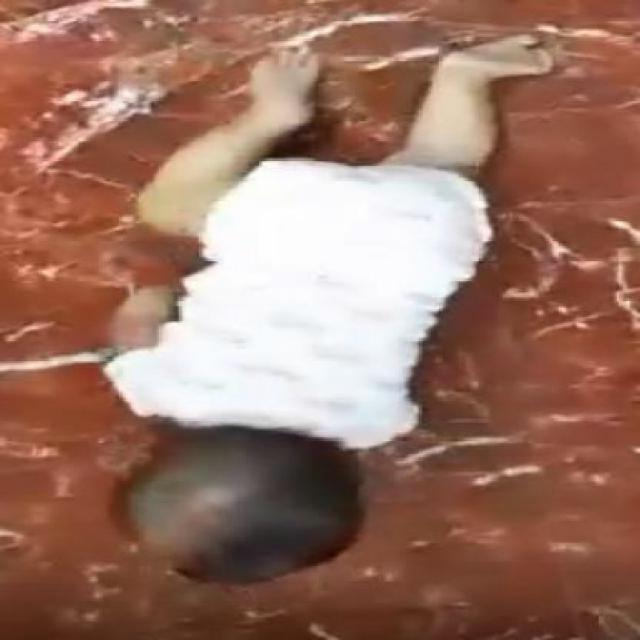child: (109, 45, 552, 587)
